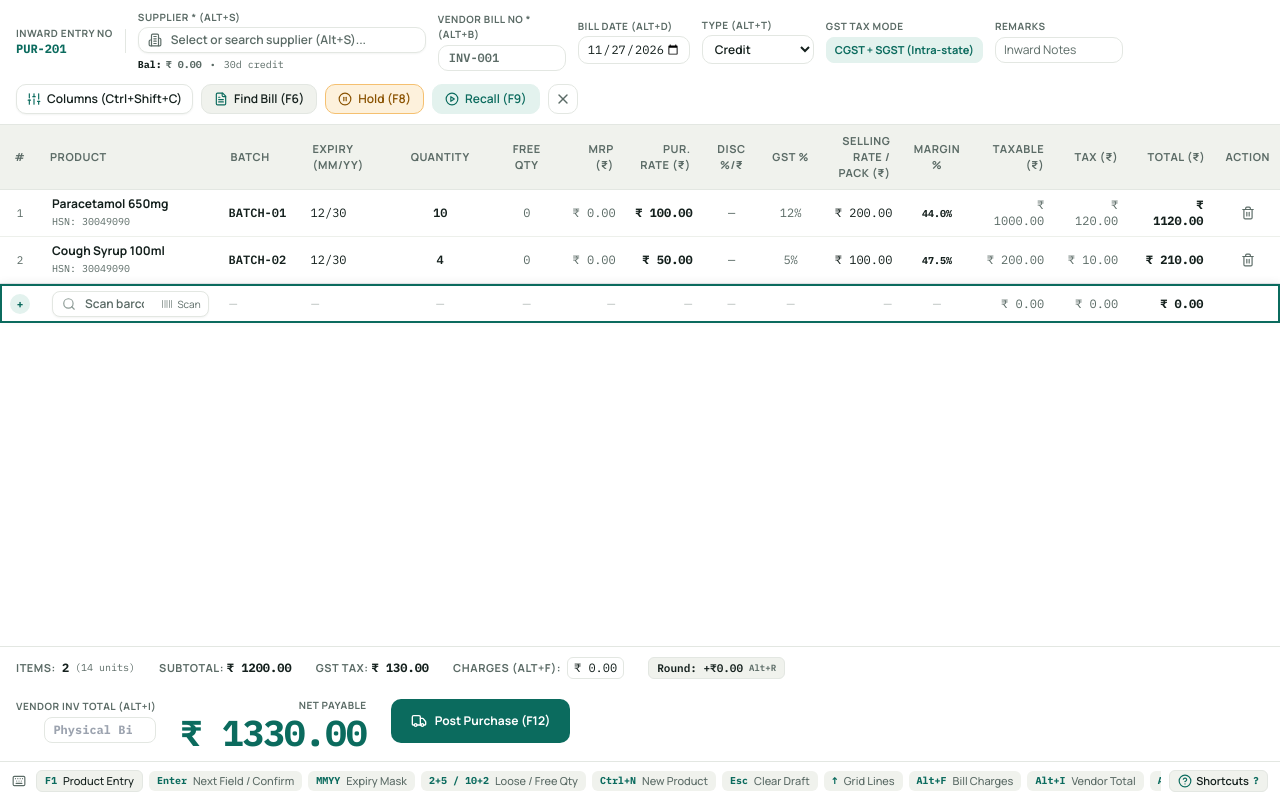
Test: Purchase screen charges grid (PUR-007) › prices a freight charge keyed in the grid through the engine into the totals bar
Press f
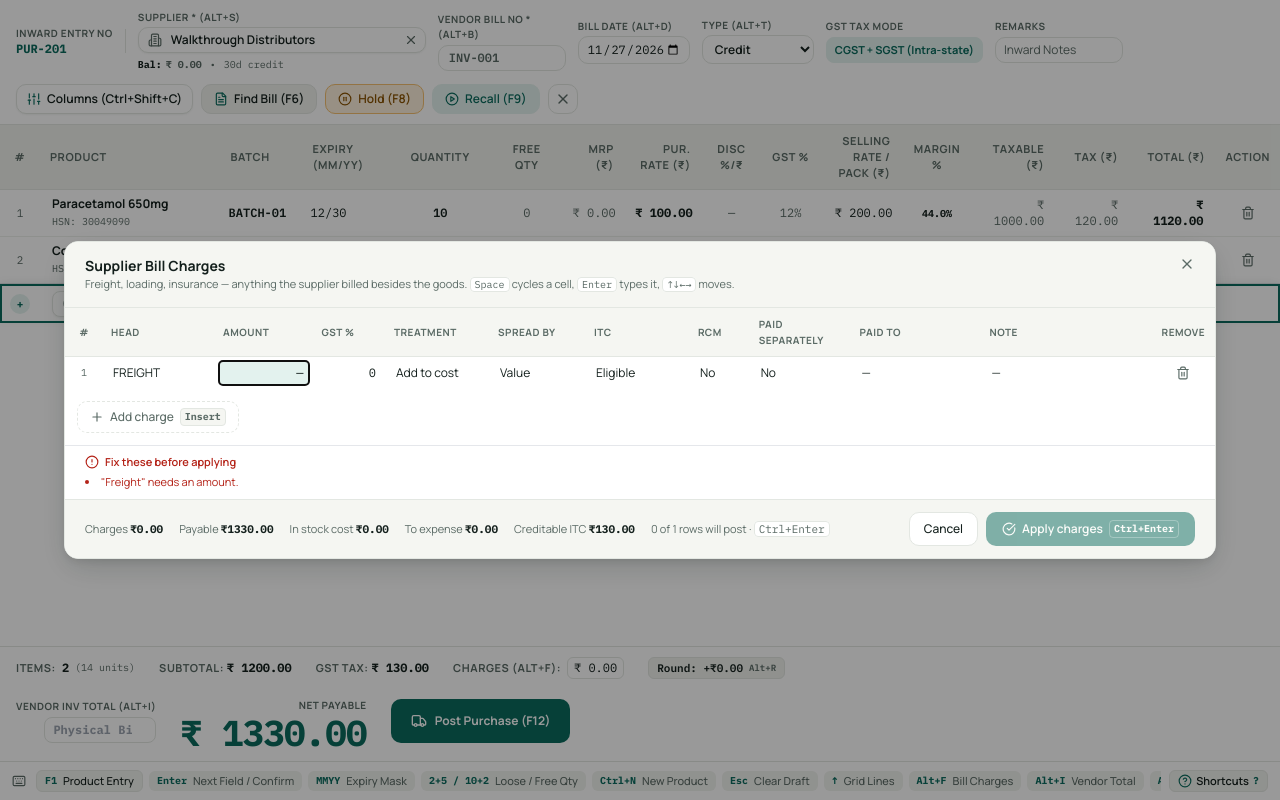
Result: the text "FREIGHT" is shown at [113, 364, 160, 381]
Press Enter in the 1st text "—", box [219, 361, 310, 385]
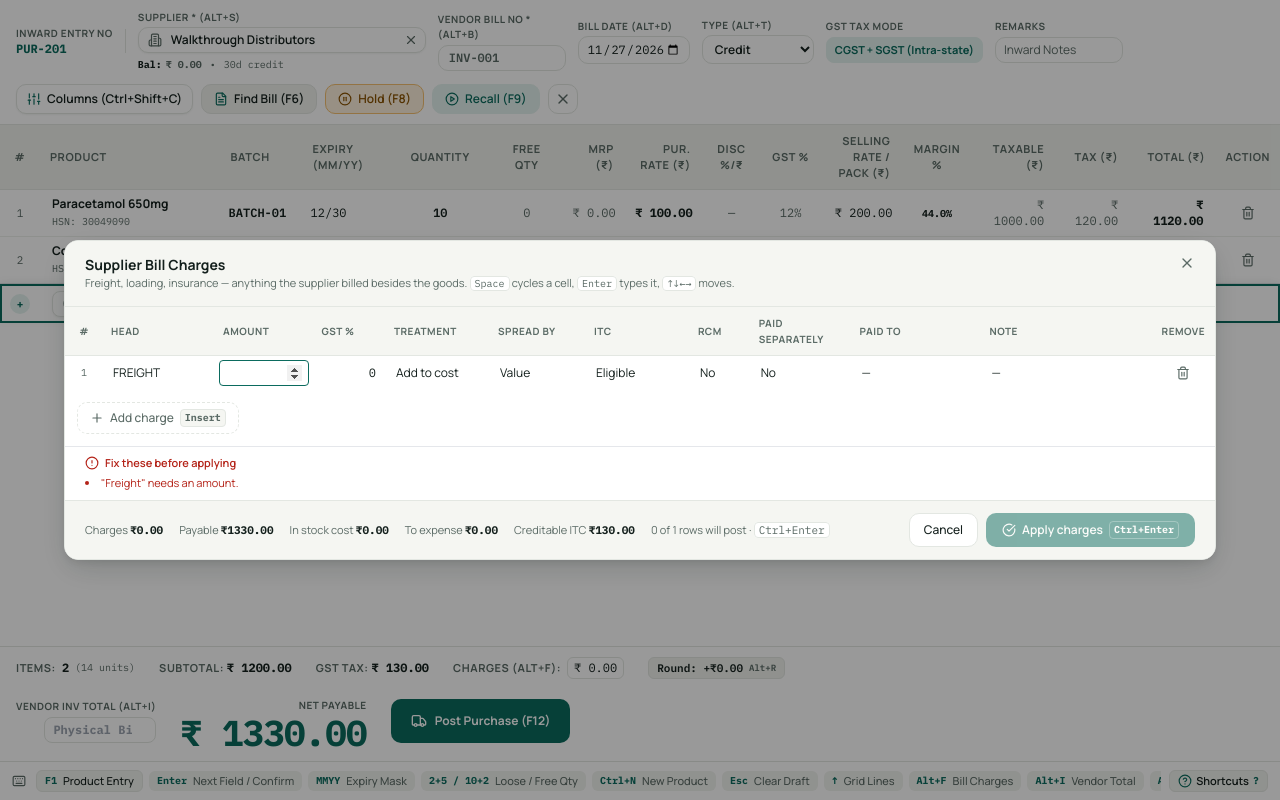
Result: the number field is shown
Type "200" into the number field at (264, 373), box [219, 360, 310, 386]
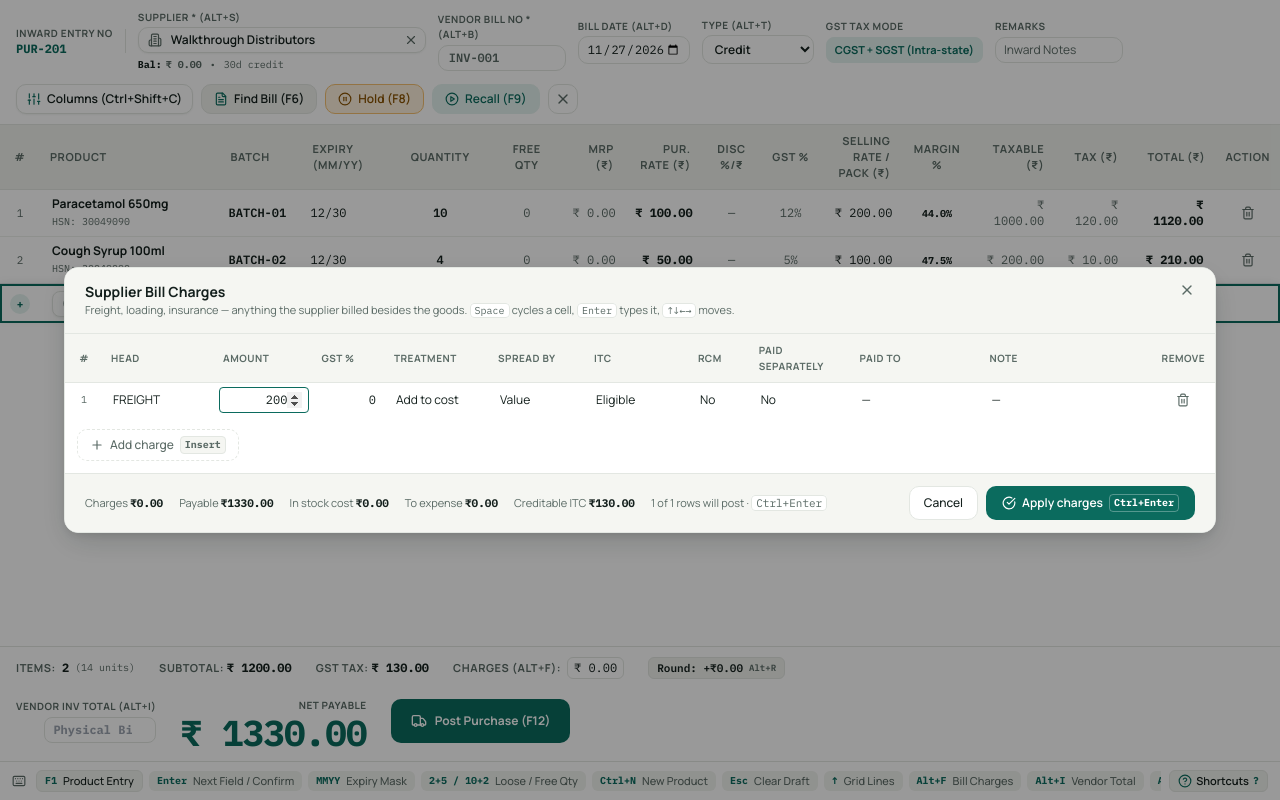
Press Enter in the number field, box [219, 387, 310, 413]
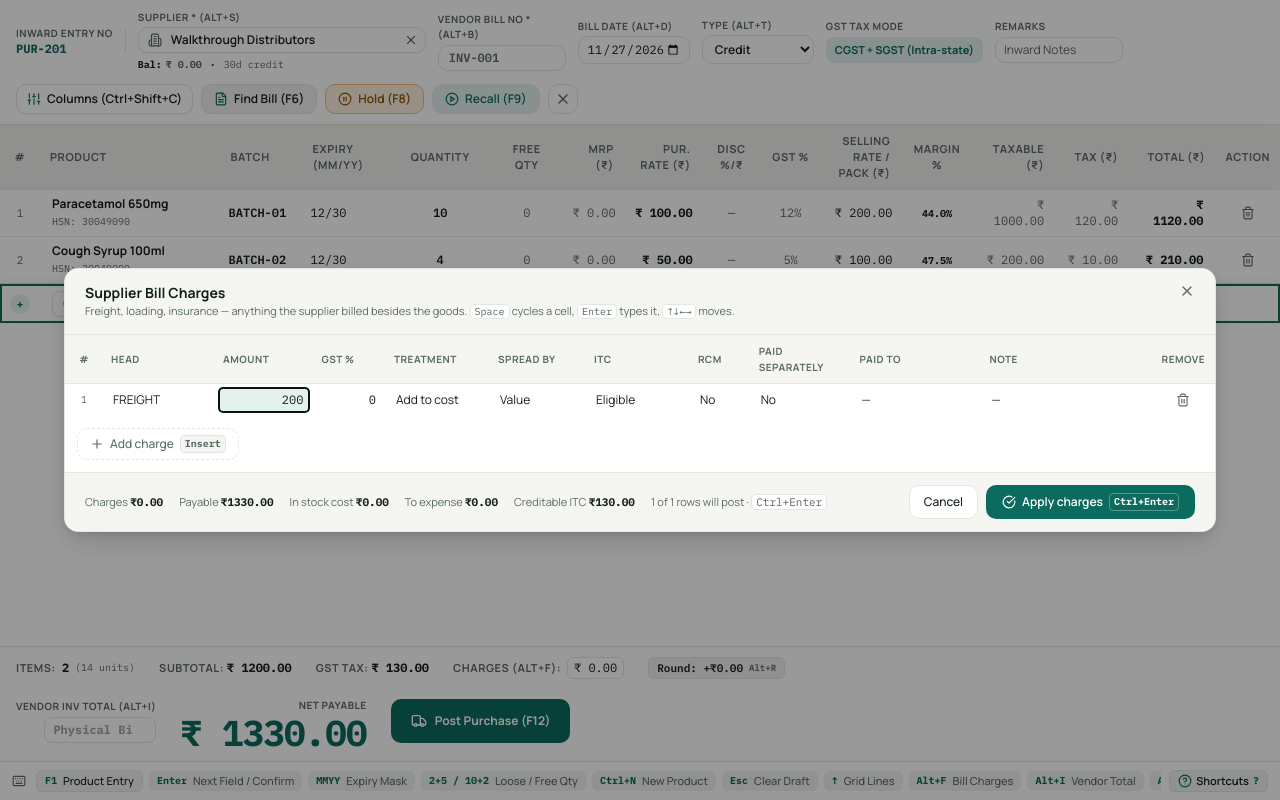
Press Enter in the text "200", box [219, 388, 310, 412]
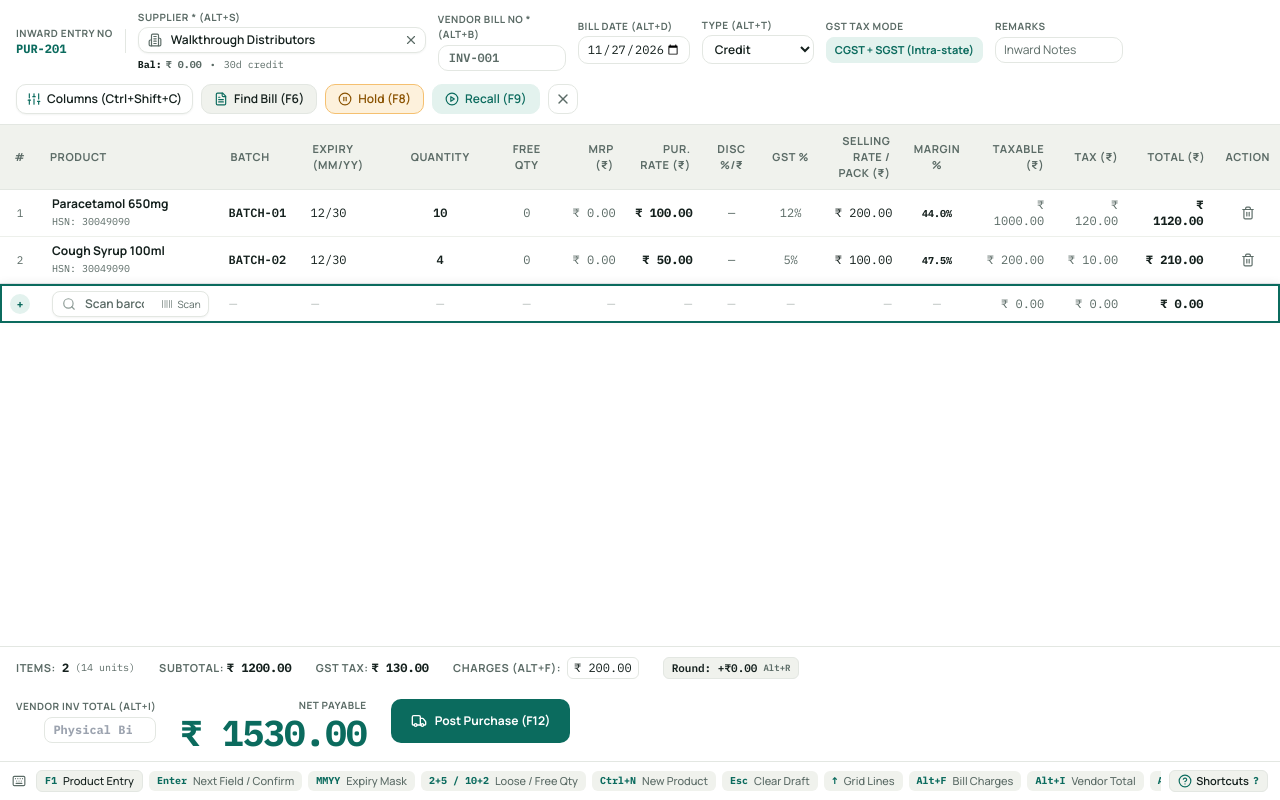
Result: the element showing "Charges (Alt+F): ₹ 200.00" is shown at [453, 657, 639, 679]
